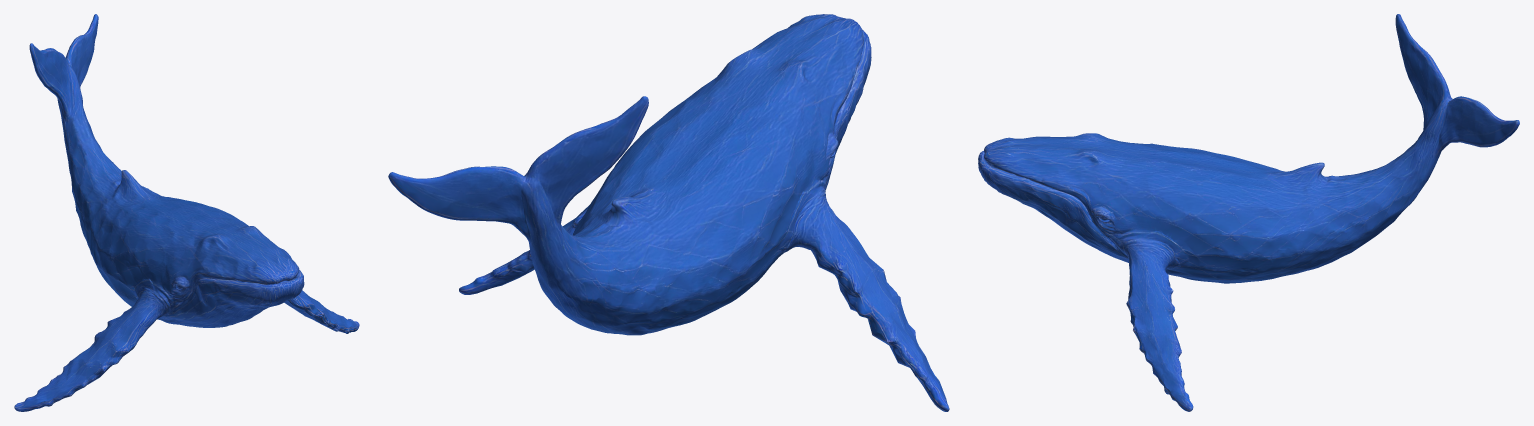
The model's file is whale.glb.
3 renders of one model, left to right at view 1: azimuth 30°, elevation 25°; view 2: azimuth 150°, elevation 25°; view 3: azimuth 270°, elevation 25°, orthographic. The views are drawn at different scales.
Parts seen in each view (by area): view 1: tripo_node_2c1cde37-7a31-4621-a2e1-783d8729e61f; view 2: tripo_node_2c1cde37-7a31-4621-a2e1-783d8729e61f; view 3: tripo_node_2c1cde37-7a31-4621-a2e1-783d8729e61f.
Boxes of the visible parts, x1,y1,x2,y2 form: tripo_node_2c1cde37-7a31-4621-a2e1-783d8729e61f: (14,14,359,411); tripo_node_2c1cde37-7a31-4621-a2e1-783d8729e61f: (388,14,949,411); tripo_node_2c1cde37-7a31-4621-a2e1-783d8729e61f: (978,14,1519,411).
Size of the model in its own units: 0.7579 by 0.5621 by 0.9797.
Materials: 1 (1 with a texture image).
